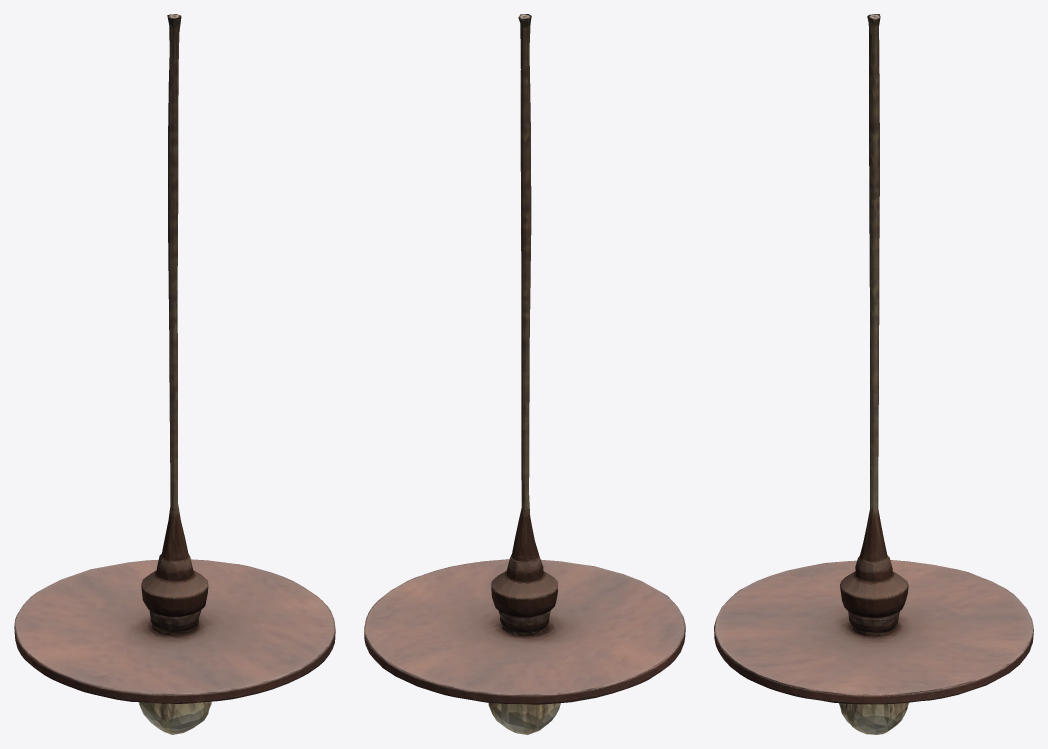
Rendered from ast_047e5f3f4bbc.glb.
3 views of the same model, side by side, from view 1: azimuth 30°, elevation 25°; view 2: azimuth 150°, elevation 25°; view 3: azimuth 270°, elevation 25° (orthographic).
Visible parts, largest first — view 1: geometry_0; view 2: geometry_0; view 3: geometry_0.
Boxes of the visible parts, x1=… form: geometry_0: x1=14, y1=14, x2=335, y2=734; geometry_0: x1=364, y1=14, x2=685, y2=734; geometry_0: x1=714, y1=14, x2=1033, y2=734.
Bounding box in the file's own units: 0.4067 × 1 × 0.4054.
Materials: 1 (1 with a texture image).
